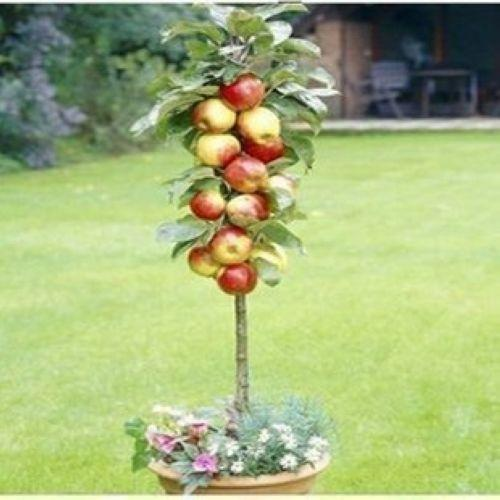apple: (235, 106, 284, 162), (222, 156, 272, 191), (196, 130, 241, 168), (210, 225, 252, 265), (190, 99, 236, 135), (217, 74, 263, 110), (224, 192, 265, 227), (215, 262, 256, 295), (188, 188, 224, 221), (188, 245, 220, 277)
